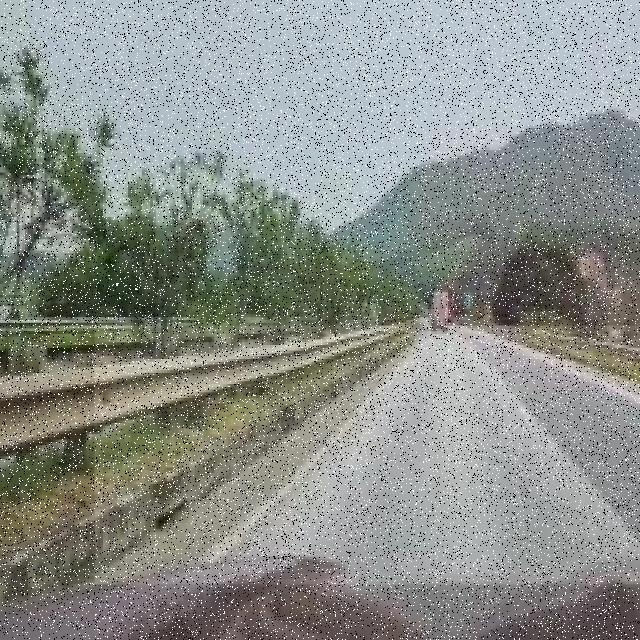clear-road: (96, 327, 640, 584)
